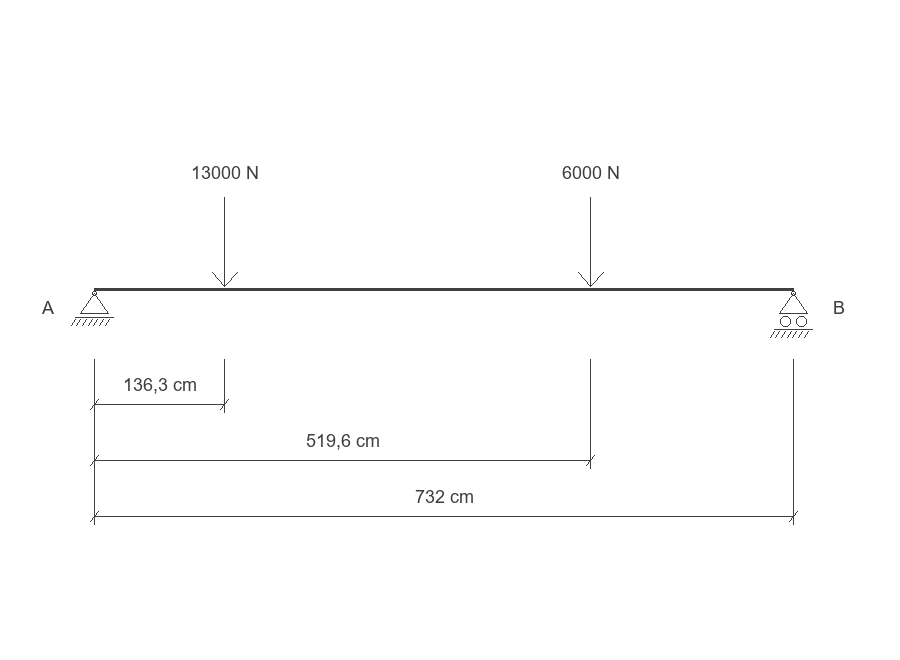pin_support: (71, 291, 114, 326)
point_load: (212, 197, 238, 287), (578, 197, 604, 287)
roller_support: (770, 291, 813, 338)
